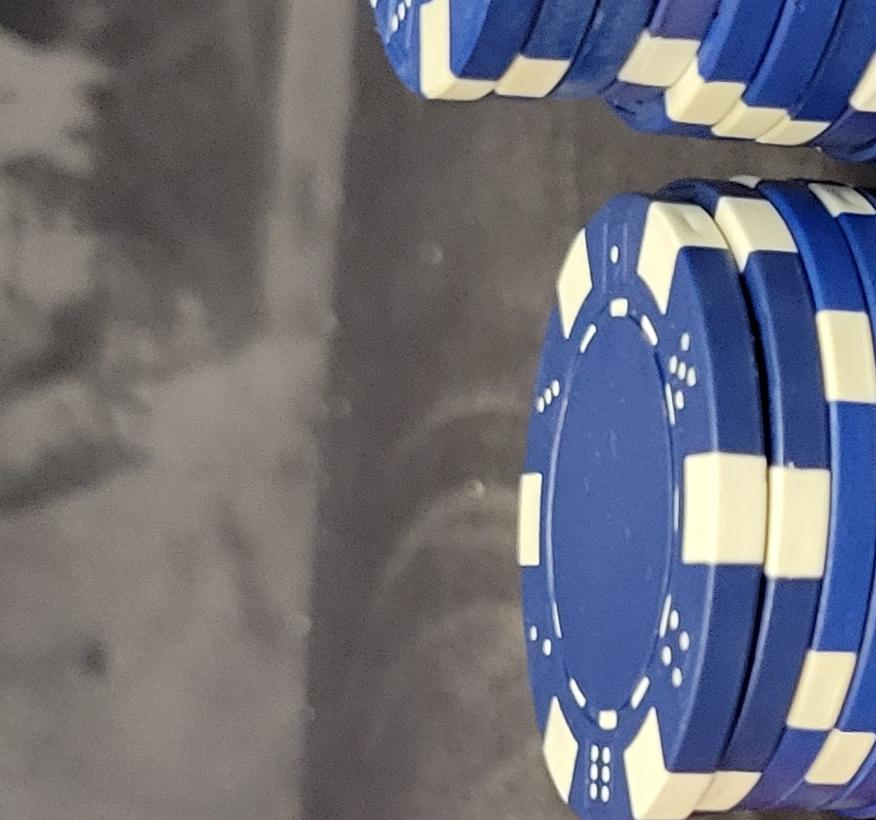Chip: (1, 272, 409, 820)
